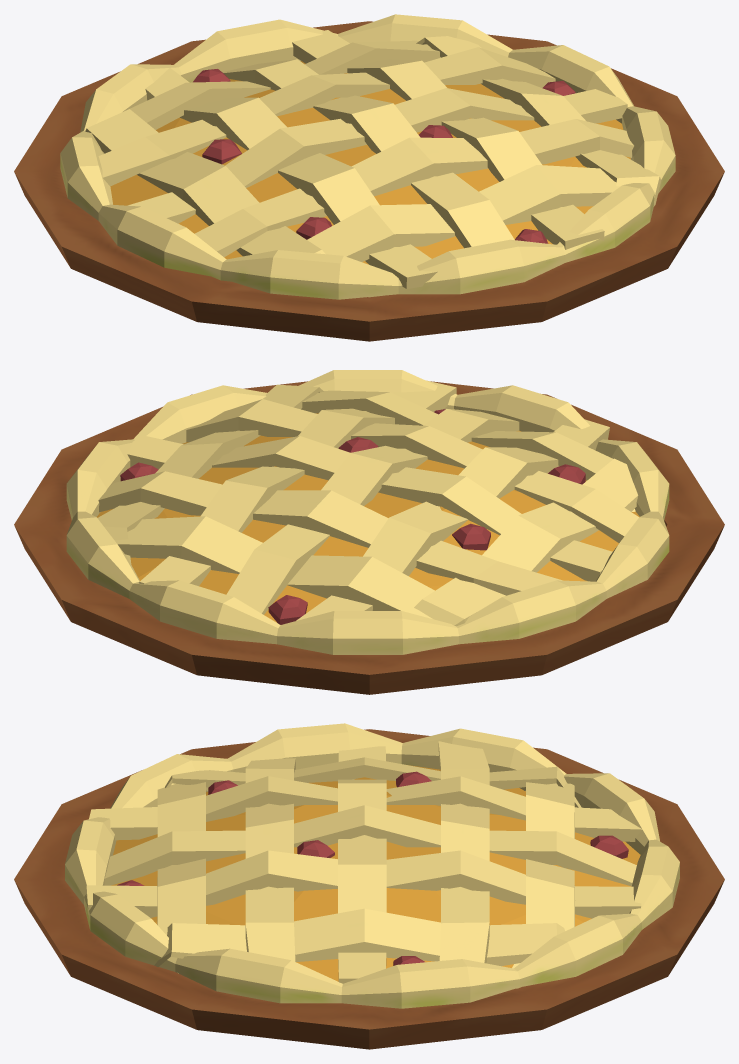
The model's file is PieLP.fbx.
3 views of the same model, one above another, from view 1: azimuth 30°, elevation 25°; view 2: azimuth 150°, elevation 25°; view 3: azimuth 270°, elevation 25° (orthographic).
Parts seen in each view (by area): view 1: Pie; view 2: Pie; view 3: Pie.
Boxes of the visible parts, left/top/right/bottom form: Pie: left=14, top=14, right=724, bottom=341; Pie: left=14, top=370, right=724, bottom=694; Pie: left=14, top=723, right=724, bottom=1049.
Size of the model in its own units: 234 by 47.99 by 234.
